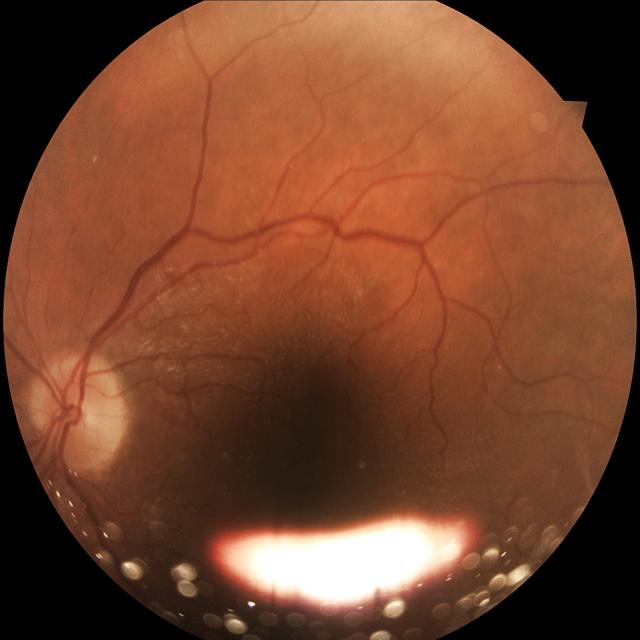OD: (25, 353, 125, 476)
